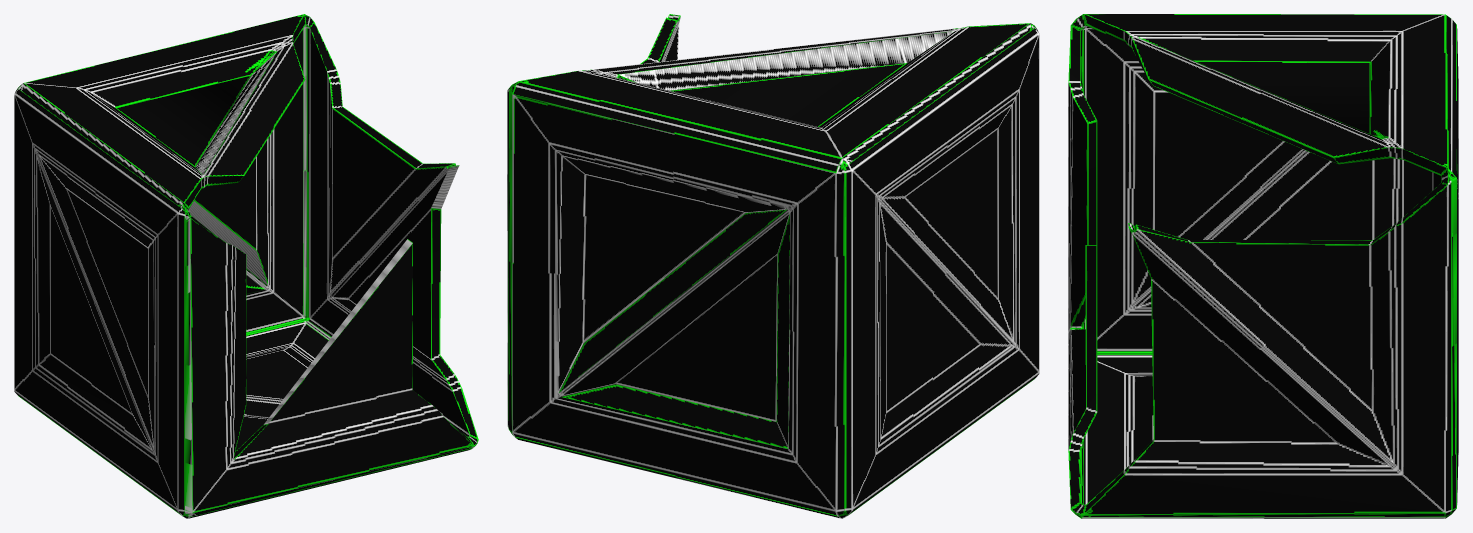
The model's file is Broken Box.FBX.
The picture shows the model from 3 angles, left to right: view 1: azimuth 30°, elevation 25°; view 2: azimuth 150°, elevation 25°; view 3: azimuth 270°, elevation 25°; orthographic projection. The views are drawn at different scales.
Parts seen in each view (by area): view 1: Box001; view 2: Box001; view 3: Box001.
Boxes of the visible parts, <box> form: Box001: <box>14,14,478,518</box>; Box001: <box>507,14,1039,518</box>; Box001: <box>1068,14,1458,518</box>.
Size of the model in its own units: 31.5 by 31.49 by 31.49.
